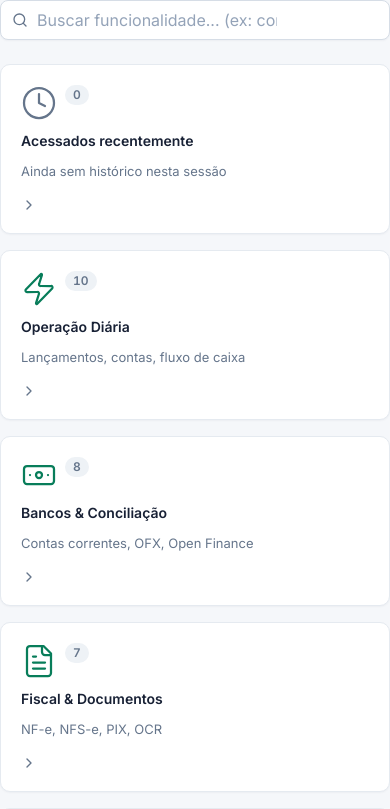
Scenario: FinHomeHub — estante de pastas › a busca passa por cima das pastas — quem digita já sabe o que quer
The width and height of the screenshot is (390, 809).
Replace the text in the field with placeholder "Buscar" with "concilia" at {"x": 195, "y": 20}, box [0,0,389,40]
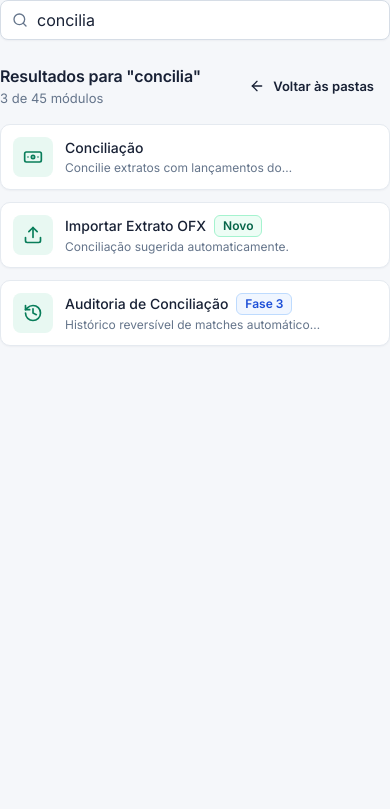
Now the heading "Resultados para \"concilia\"" is shown, box [0,64,201,88]
